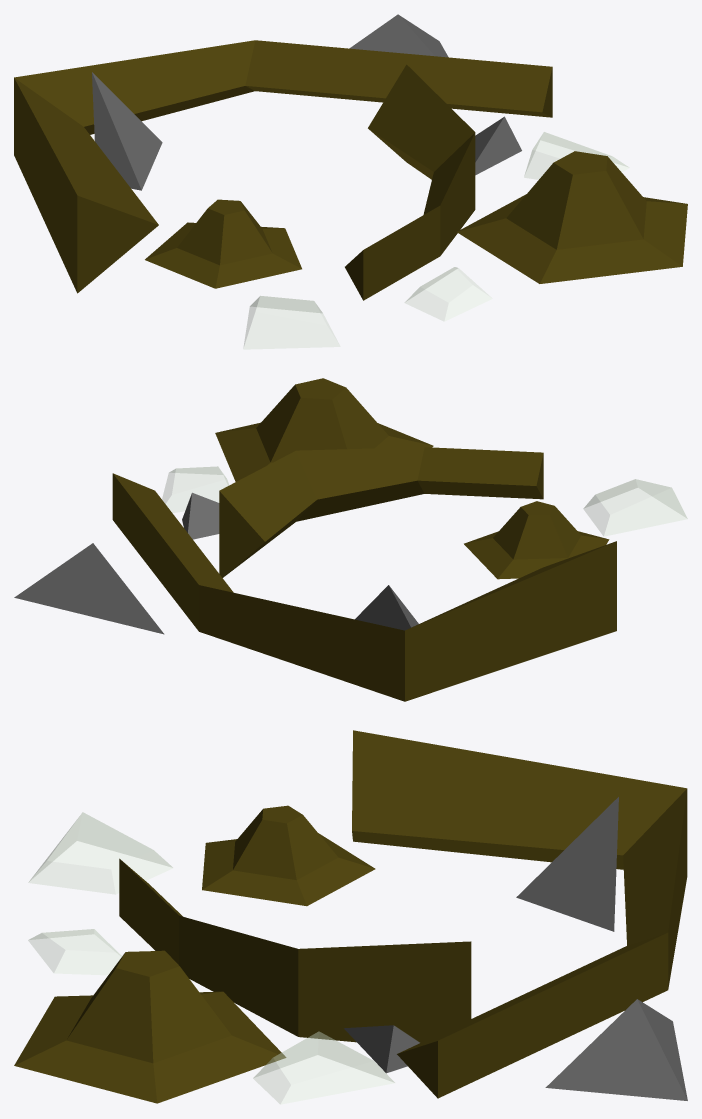
The model's file is Pests-Trash.fbx.
3 views of the same model, one above another, from view 1: azimuth 30°, elevation 25°; view 2: azimuth 150°, elevation 25°; view 3: azimuth 270°, elevation 25° (orthographic). The views are drawn at different scales.
Parts seen in each view (by area): view 1: Pests-Trash; view 2: Pests-Trash; view 3: Pests-Trash.
Boxes of the visible parts, <box> form: Pests-Trash: <box>14,14,687,349</box>; Pests-Trash: <box>14,378,687,701</box>; Pests-Trash: <box>14,730,687,1104</box>.
Bounding box in the file's own units: 0.9354 × 0.9177 × 0.1775.
